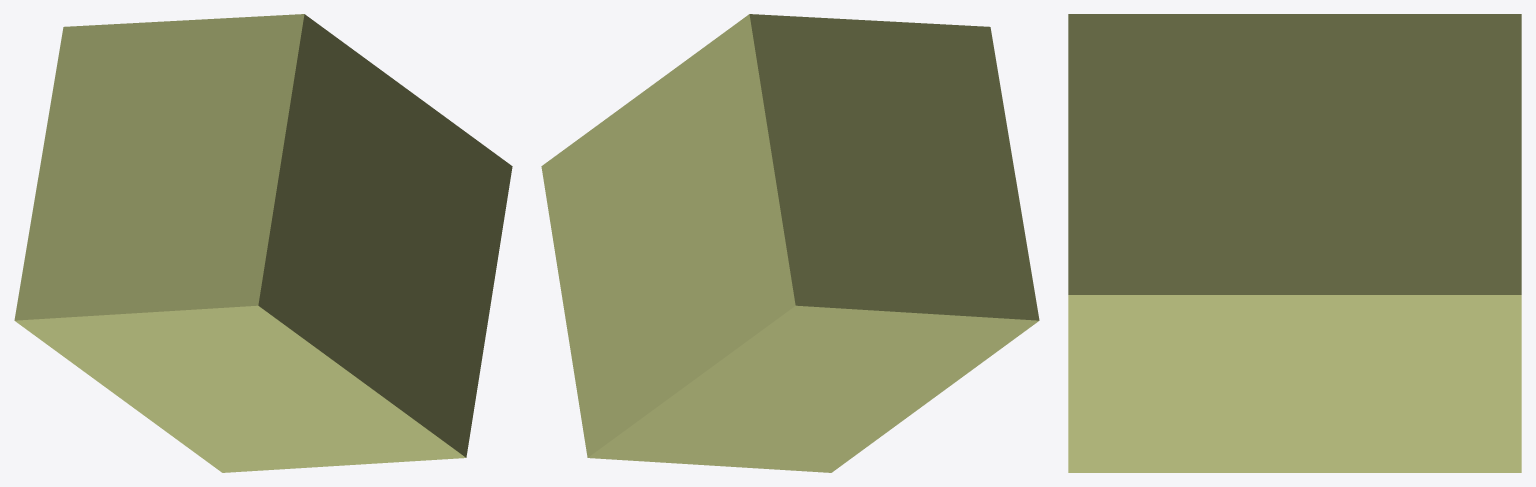
3 views of the same model, side by side, from view 1: azimuth 30°, elevation 25°; view 2: azimuth 150°, elevation 25°; view 3: azimuth 270°, elevation 25° (orthographic). The views are drawn at different scales.
Parts seen in each view (by area): view 1: 0_1_2_0_3_3_2_1_0_2_3; view 2: 0_1_2_0_3_3_2_1_0_2_3; view 3: 0_1_2_0_3_3_2_1_0_2_3.
Part boxes in pixels (left/top/right/bottom): 0_1_2_0_3_3_2_1_0_2_3: left=14, top=14, right=512, bottom=472; 0_1_2_0_3_3_2_1_0_2_3: left=541, top=14, right=1039, bottom=472; 0_1_2_0_3_3_2_1_0_2_3: left=1068, top=14, right=1521, bottom=472.
Bounding box in the file's own units: 7.24 × 7.79 × 9.
